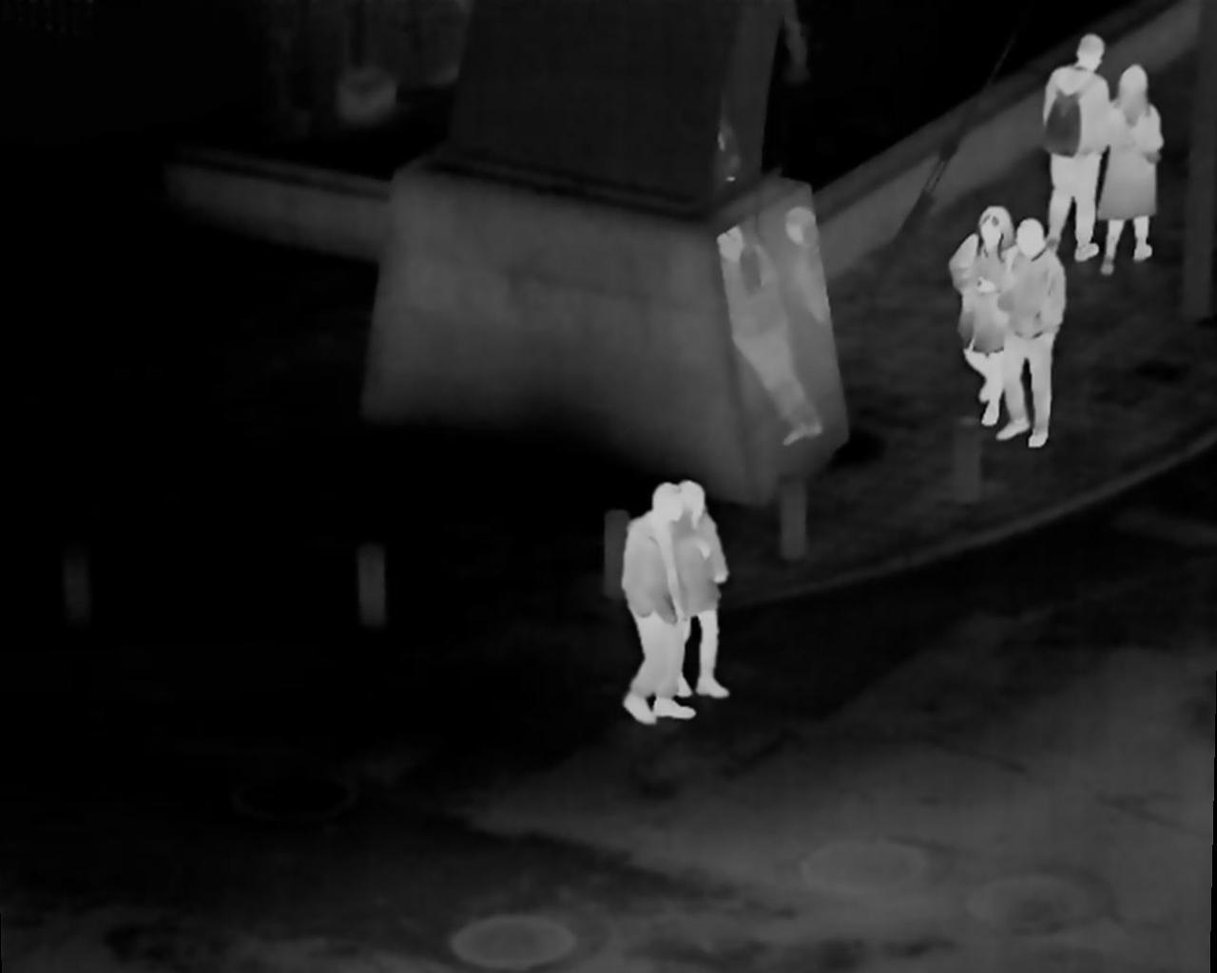person: (620, 481, 690, 722), (948, 210, 1018, 430), (1048, 31, 1114, 258), (666, 485, 737, 692), (1095, 63, 1162, 278), (1008, 221, 1059, 450)
